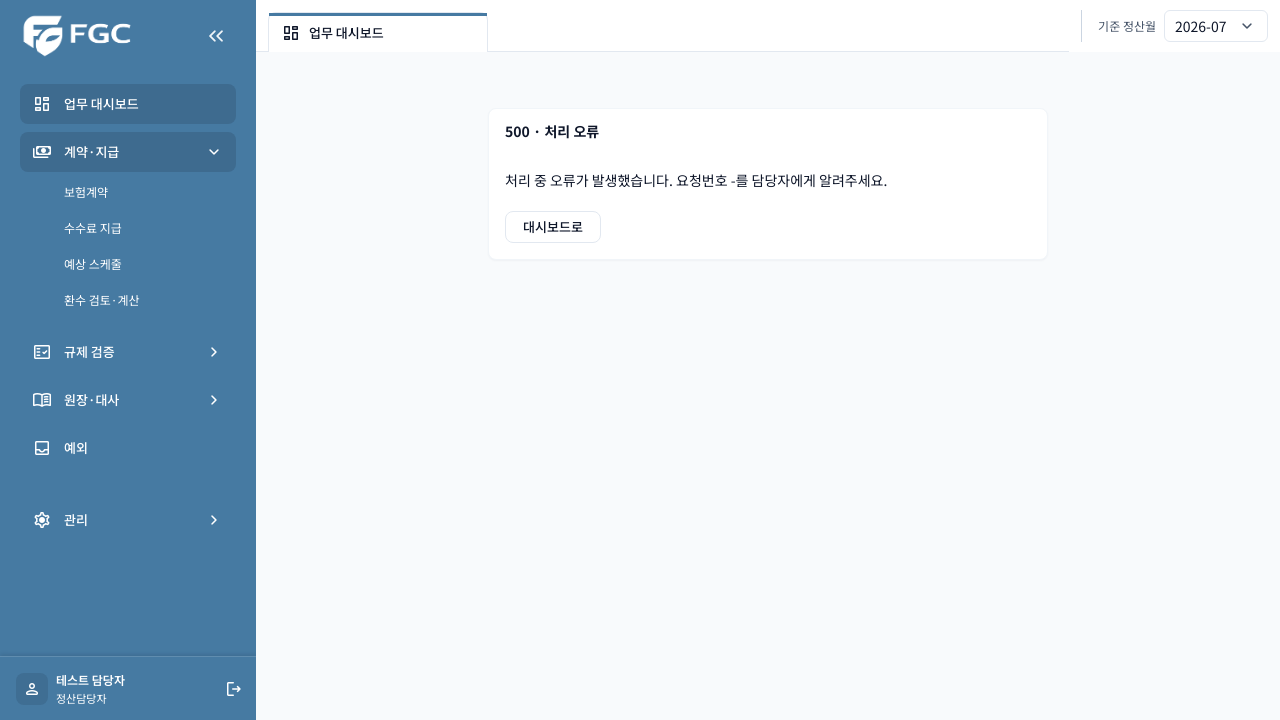
Test: 오류 화면 (#417) › 4. 렌더링 예외는 셸 안의 오류 화면으로 받고 다른 탭으로 이동할 수 있다
Expected: the heading "500 · 처리 오류" is shown, [505,120,599,142]
Expected: the text "처리 중 오류가 발생했습니다. 요청번호 -를 담당자에게 알려주세요." is shown, [505,169,887,191]
Click the link "보험계약": (86, 192) [64,183,108,200]
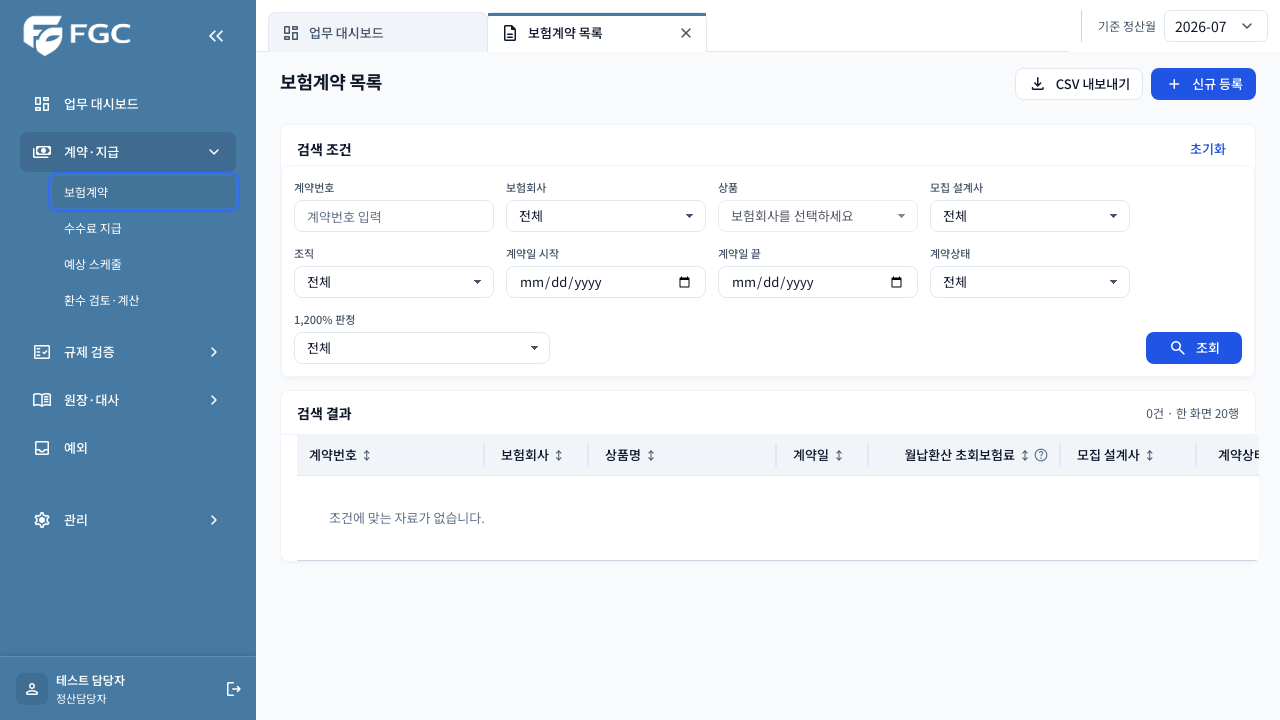
Expected: the heading "보험계약 목록" is shown, [280,68,382,94]
Expected: the heading "500 · 처리 오류" is gone
